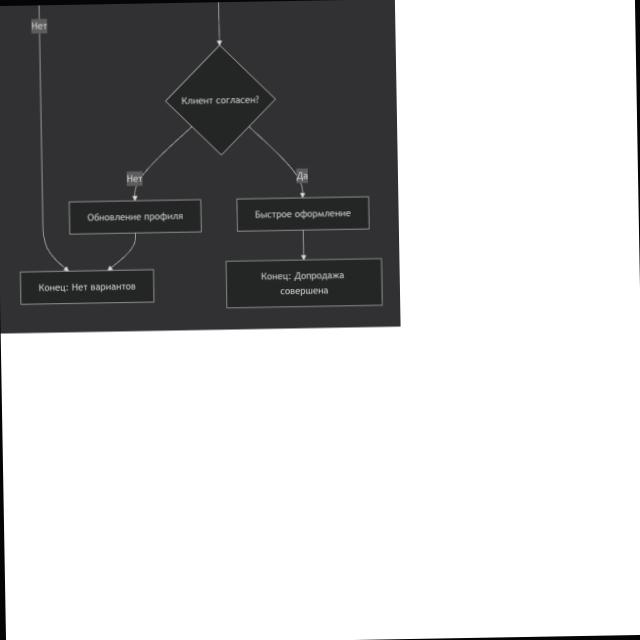arrow: (127, 125, 195, 200), (244, 125, 307, 199), (108, 234, 136, 270), (293, 230, 310, 262)
diamond: (167, 46, 275, 153)
rectangle: (226, 258, 382, 308), (21, 269, 154, 305), (237, 197, 369, 231), (69, 200, 201, 234)
text_region: (120, 165, 148, 188), (289, 165, 318, 186)
